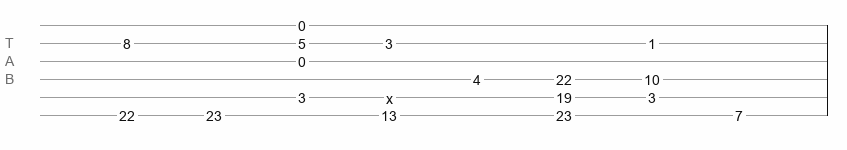0: (298, 18, 306, 28), (298, 54, 306, 64)
1: (648, 36, 656, 46)
10: (644, 72, 660, 82)
13: (381, 108, 397, 118)
19: (556, 90, 572, 100)
22: (119, 108, 135, 118), (556, 72, 572, 82)
23: (206, 108, 222, 118), (556, 108, 572, 118)
3: (298, 90, 306, 100), (385, 36, 393, 46), (648, 90, 656, 100)
4: (473, 72, 481, 82)
5: (298, 36, 306, 46)
7: (735, 108, 743, 118)
8: (123, 36, 131, 46)
x: (386, 91, 393, 99)
